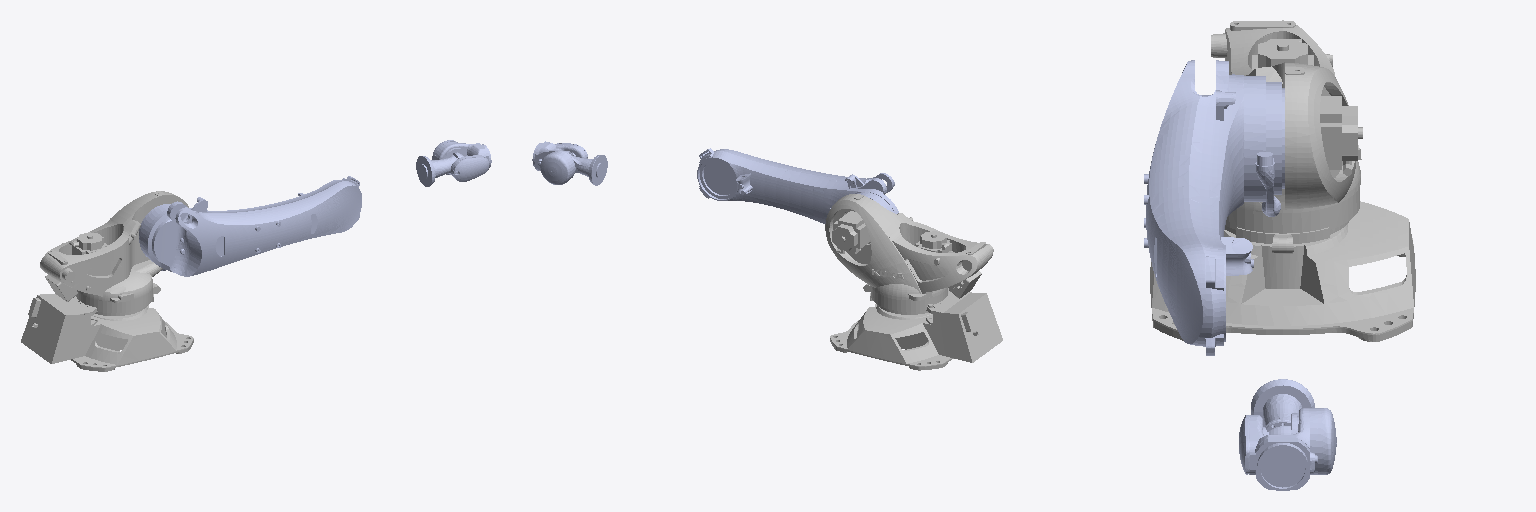
URDF robot description (kuka_kr120r2500proB):
<?xml version="1.0" ?>
<!-- =================================================================================== -->
<!-- |    This document was autogenerated by xacro from kr120r2500pro.xacro            | -->
<!-- |    EDITING THIS FILE BY HAND IS NOT RECOMMENDED                                 | -->
<!-- =================================================================================== -->
<!--Generates a urdf from the macro in kr120r2500pro_macro.xacro -->
<robot name="kuka_kr120r2500proB" xmlns:xacro="http://wiki.ros.org/xacro">
  <link name="base_link">
    <inertial>
      <origin rpy="0 0 0" xyz="0 0 0"/>
      <mass value="2"/>
      <inertia ixx="0.01" ixy="0" ixz="0" iyy="0.01" iyz="0" izz="0.01"/>
    </inertial>
    <visual>
      <origin rpy="0 0 0" xyz="0 0 0"/>
      <geometry>
        <mesh filename="package://kuka_kr120_support/meshes/kr120r2500pro/visual/base_link.dae"/>
      </geometry>
    </visual>
    <collision>
      <origin rpy="0 0 0" xyz="0 0 0"/>
      <geometry>
        <mesh filename="package://kuka_kr120_support/meshes/kr120r2500pro/collision/base_link.stl"/>
      </geometry>
    </collision>
  </link>
  <link name="link_1">
    <inertial>
      <origin rpy="0 0 0" xyz="0 0 0"/>
      <mass value="2"/>
      <inertia ixx="0.01" ixy="0" ixz="0" iyy="0.01" iyz="0" izz="0.01"/>
    </inertial>
    <visual>
      <origin rpy="0 0 0" xyz="0 0 0"/>
      <geometry>
        <mesh filename="package://kuka_kr120_support/meshes/kr120r2500pro/visual/link_1.dae"/>
      </geometry>
    </visual>
    <collision>
      <origin rpy="0 0 0" xyz="0 0 0"/>
      <geometry>
        <mesh filename="package://kuka_kr120_support/meshes/kr120r2500pro/collision/link_1.stl"/>
      </geometry>
    </collision>
  </link>
  <link name="link_2">
    <inertial>
      <origin rpy="0 0 0" xyz="0 0 0"/>
      <mass value="2"/>
      <inertia ixx="0.01" ixy="0" ixz="0" iyy="0.01" iyz="0" izz="0.01"/>
    </inertial>
    <visual>
      <origin rpy="0 0 0" xyz="0 0 0"/>
      <geometry>
        <mesh filename="package://kuka_kr120_support/meshes/kr120r2500pro/visual/link_2.dae"/>
      </geometry>
    </visual>
    <collision>
      <origin rpy="0 0 0" xyz="0 0 0"/>
      <geometry>
        <mesh filename="package://kuka_kr120_support/meshes/kr120r2500pro/collision/link_2.stl"/>
      </geometry>
    </collision>
  </link>
  <link name="link_3">
    <inertial>
      <origin rpy="0 0 0" xyz="0 0 0"/>
      <mass value="2"/>
      <inertia ixx="0.01" ixy="0" ixz="0" iyy="0.01" iyz="0" izz="0.01"/>
    </inertial>
    <visual>
      <origin rpy="0 0 0" xyz="0 0 0"/>
      <geometry>
        <mesh filename="package://kuka_kr120_support/meshes/kr120r2500pro/visual/link_3.dae"/>
      </geometry>
    </visual>
    <collision>
      <origin rpy="0 0 0" xyz="0 0 0"/>
      <geometry>
        <mesh filename="package://kuka_kr120_support/meshes/kr120r2500pro/collision/link_3.stl"/>
      </geometry>
    </collision>
  </link>
  <link name="link_4">
    <inertial>
      <origin rpy="0 0 0" xyz="0 0 0"/>
      <mass value="2"/>
      <inertia ixx="0.01" ixy="0" ixz="0" iyy="0.01" iyz="0" izz="0.01"/>
    </inertial>
    <visual>
      <origin rpy="0 0 0" xyz="0 0 0"/>
      <geometry>
        <mesh filename="package://kuka_kr120_support/meshes/kr120r2500pro/visual/link_4.dae"/>
      </geometry>
    </visual>
    <collision>
      <origin rpy="0 0 0" xyz="0 0 0"/>
      <geometry>
        <mesh filename="package://kuka_kr120_support/meshes/kr120r2500pro/collision/link_4.stl"/>
      </geometry>
    </collision>
  </link>
  <link name="link_5">
    <inertial>
      <origin rpy="0 0 0" xyz="0 0 0"/>
      <mass value="2"/>
      <inertia ixx="0.01" ixy="0" ixz="0" iyy="0.01" iyz="0" izz="0.01"/>
    </inertial>
    <visual>
      <origin rpy="0 0 0" xyz="0 0 0"/>
      <geometry>
        <mesh filename="package://kuka_kr120_support/meshes/kr120r2500pro/visual/link_5.dae"/>
      </geometry>
    </visual>
    <collision>
      <origin rpy="0 0 0" xyz="0 0 0"/>
      <geometry>
        <mesh filename="package://kuka_kr120_support/meshes/kr120r2500pro/collision/link_5.stl"/>
      </geometry>
    </collision>
  </link>
  <link name="link_6">
    <inertial>
      <origin rpy="0 0 0" xyz="0 0 0"/>
      <mass value="2"/>
      <inertia ixx="0.01" ixy="0" ixz="0" iyy="0.01" iyz="0" izz="0.01"/>
    </inertial>
    <visual>
      <origin rpy="0 0 0" xyz="0 0 0"/>
      <geometry>
        <mesh filename="package://kuka_kr120_support/meshes/kr120r2500pro/visual/link_6.dae"/>
      </geometry>
    </visual>
    <collision>
      <origin rpy="0 0 0" xyz="0 0 0"/>
      <geometry>
        <mesh filename="package://kuka_kr120_support/meshes/kr120r2500pro/collision/link_6.stl"/>
      </geometry>
    </collision>
  </link>
  <link name="tool0"/>
  <joint name="joint_b1" type="revolute">
    <origin rpy="0 0 0" xyz="0 0 0.675"/>
    <parent link="base_link"/>
    <child link="link_1"/>
    <axis xyz="0 0 -1"/>
    <limit effort="0" lower="-3.22885911619" upper="3.22885911619" velocity="2.72271363311"/>
  </joint>
  <joint name="joint_b2" type="revolute">
    <origin rpy="0 0 0" xyz="0.35 0 0"/>
    <parent link="link_1"/>
    <child link="link_2"/>
    <axis xyz="0 1 0"/>
    <limit effort="0" lower="-2.70526034059" upper="0.610865238198" velocity="2.72271363311"/>
  </joint>
  <joint name="joint_b3" type="revolute">
    <origin rpy="0 0 0" xyz="1.150 0 0"/>
    <parent link="link_2"/>
    <child link="link_3"/>
    <axis xyz="0 1 0"/>
    <limit effort="0" lower="-2.26892802759" upper="2.68780704807" velocity="2.72271363311"/>
  </joint>
  <joint name="joint_b4" type="revolute">
    <origin rpy="0 0 0" xyz="1.0 0 -0.041"/>
    <parent link="link_3"/>
    <child link="link_4"/>
    <axis xyz="-1 0 0"/>
    <limit effort="0" lower="-6.10865238198" upper="6.10865238198" velocity="5.75958653158"/>
  </joint>
  <joint name="joint_b5" type="revolute">
    <origin rpy="0 0 0" xyz="0 0 0"/>
    <parent link="link_4"/>
    <child link="link_5"/>
    <axis xyz="0 1 0"/>
    <limit effort="0" lower="-2.26892802759" upper="2.26892802759" velocity="5.75958653158"/>
  </joint>
  <joint name="joint_a6" type="revolute">
    <origin rpy="0 0 0" xyz="0 0 0"/>
    <parent link="link_5"/>
    <child link="link_6"/>
    <axis xyz="-1 0 0"/>
    <limit effort="0" lower="-6.10865238198" upper="6.10865238198" velocity="10.7337748998"/>
  </joint>
  <joint name="joint_b6-tool0" type="fixed">
    <parent link="link_6"/>
    <child link="tool0"/>
    <origin rpy="0 1.57079632679 0" xyz="0.215 0 0"/>
  </joint>
  <link name="base"/>
  <joint name="base_link-base" type="fixed">
    <origin rpy="0 0 0" xyz="0 0 0"/>
    <parent link="base_link"/>
    <child link="base"/>
  </joint>
</robot>

--- Render facts (derived) ---
Views: 3 orthographic renders of the robot side by side, from view 1: azimuth 30°, elevation 25°; view 2: azimuth 150°, elevation 25°; view 3: azimuth 270°, elevation 25°.
Model kuka_kr120r2500proB with 9 links and 8 joints (6 revolute, 2 fixed), rooted at base_link, posed all joints at 0.
Links seen in each view (by area): view 1: link_2, link_1, base_link, link_5, link_4; view 2: link_1, base_link, link_2, link_5, link_4; view 3: link_2, link_1, base_link, link_5, link_4.
Boxes of the visible links, x1,y1,x2,y2 form: link_2: (139,176,361,276); link_1: (40,191,188,315); base_link: (21,294,193,371); link_5: (432,140,491,181); link_4: (416,148,467,186); link_1: (825,194,993,314); base_link: (830,288,1002,370); link_2: (697,148,898,223); link_5: (532,141,587,184); link_4: (561,150,607,185); link_2: (1144,60,1284,355); link_1: (1211,20,1362,253); base_link: (1150,201,1415,341); link_5: (1239,408,1336,490); link_4: (1251,379,1314,434).
Size in the robot's own frame: 3.27 by 0.8477 by 0.9386 metres.
Meshes: 7 distinct files referenced, 7 mesh visuals loaded (7 Collada DAE).